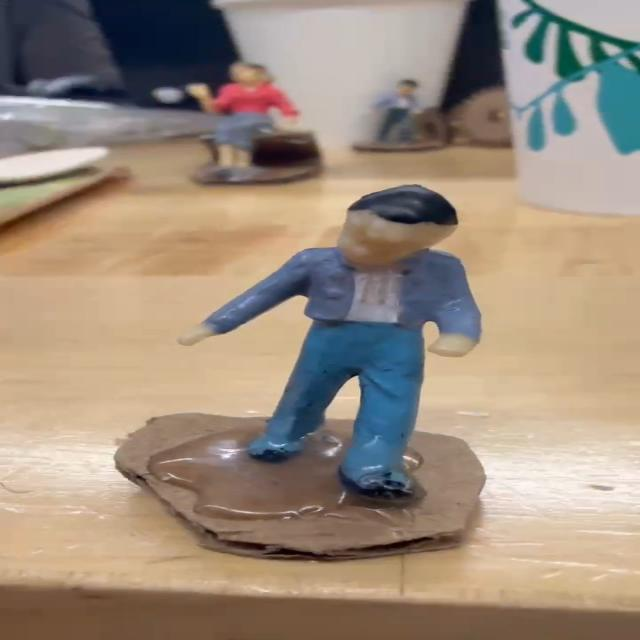Authorized: (126, 172, 525, 573)
